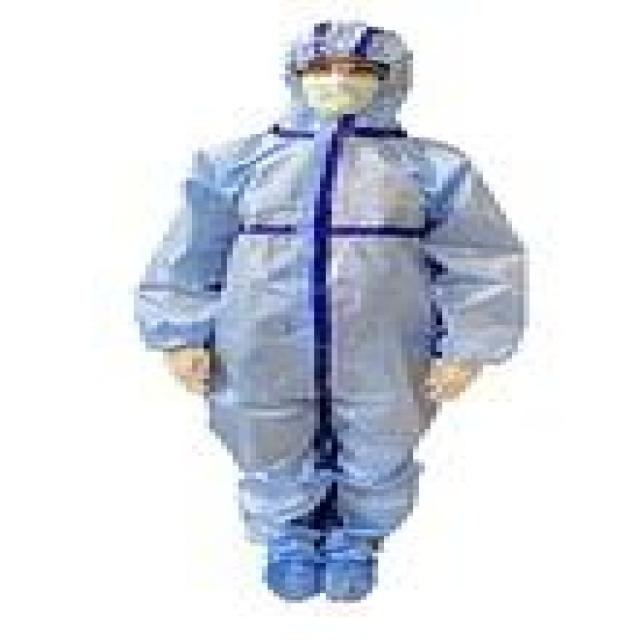Coverall: (152, 17, 565, 610)
Mask: (273, 60, 355, 121)
